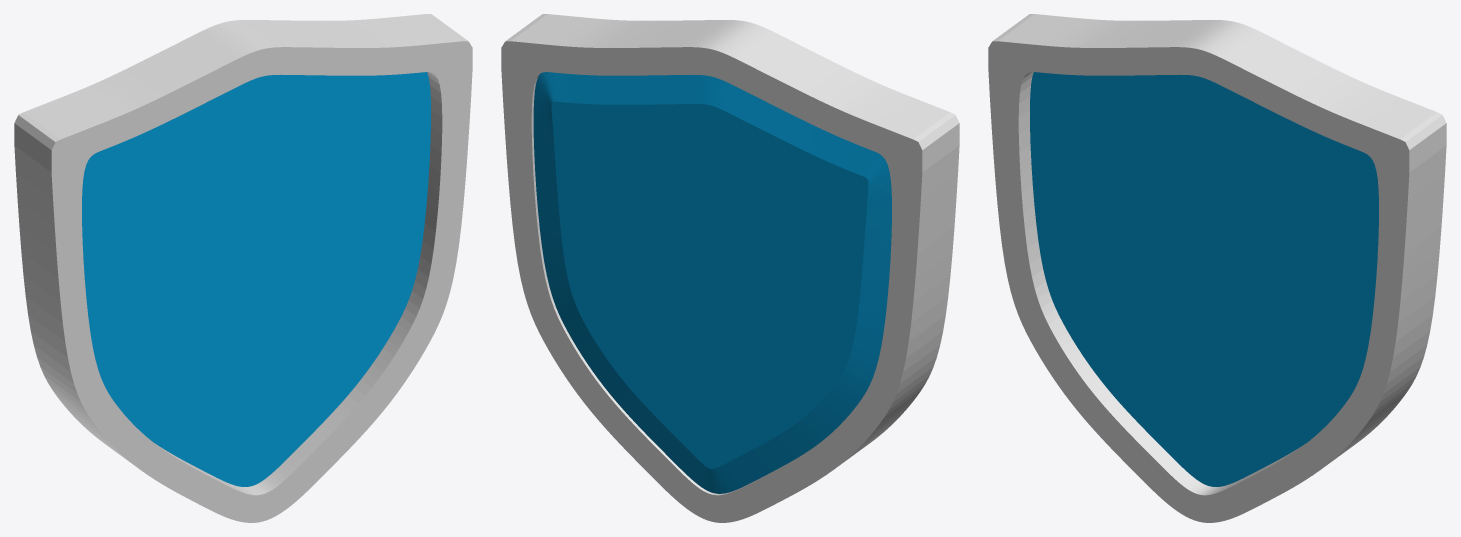
Rendered from sheild.fbx.
The picture shows the model from 3 angles, left to right: view 1: azimuth 30°, elevation 25°; view 2: azimuth 150°, elevation 25°; view 3: azimuth 330°, elevation 25°; orthographic projection.
Visible parts, largest first — view 1: Cube; view 2: Cube; view 3: Cube.
Part boxes in pixels (left/top/right/bottom): Cube: left=14, top=14, right=472, bottom=522; Cube: left=501, top=14, right=959, bottom=522; Cube: left=988, top=14, right=1446, bottom=522.
Bounding box in the file's own units: 392 × 420 × 63.
